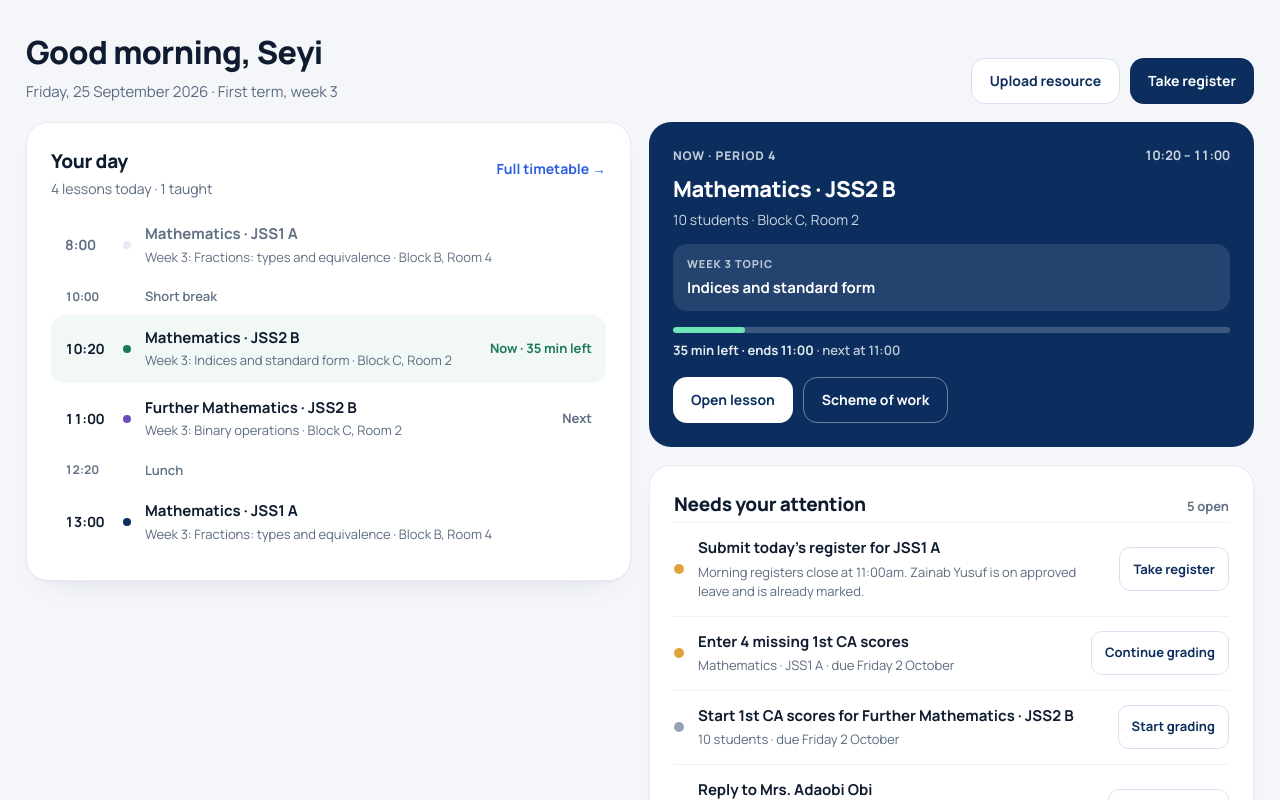
Test case: the lesson sheet › opens from the day list with the period, room, topic and actions
The width and height of the screenshot is (1280, 800).
Click the button with aria-label "Open lesson details" at (328,245), box [51, 211, 606, 279]
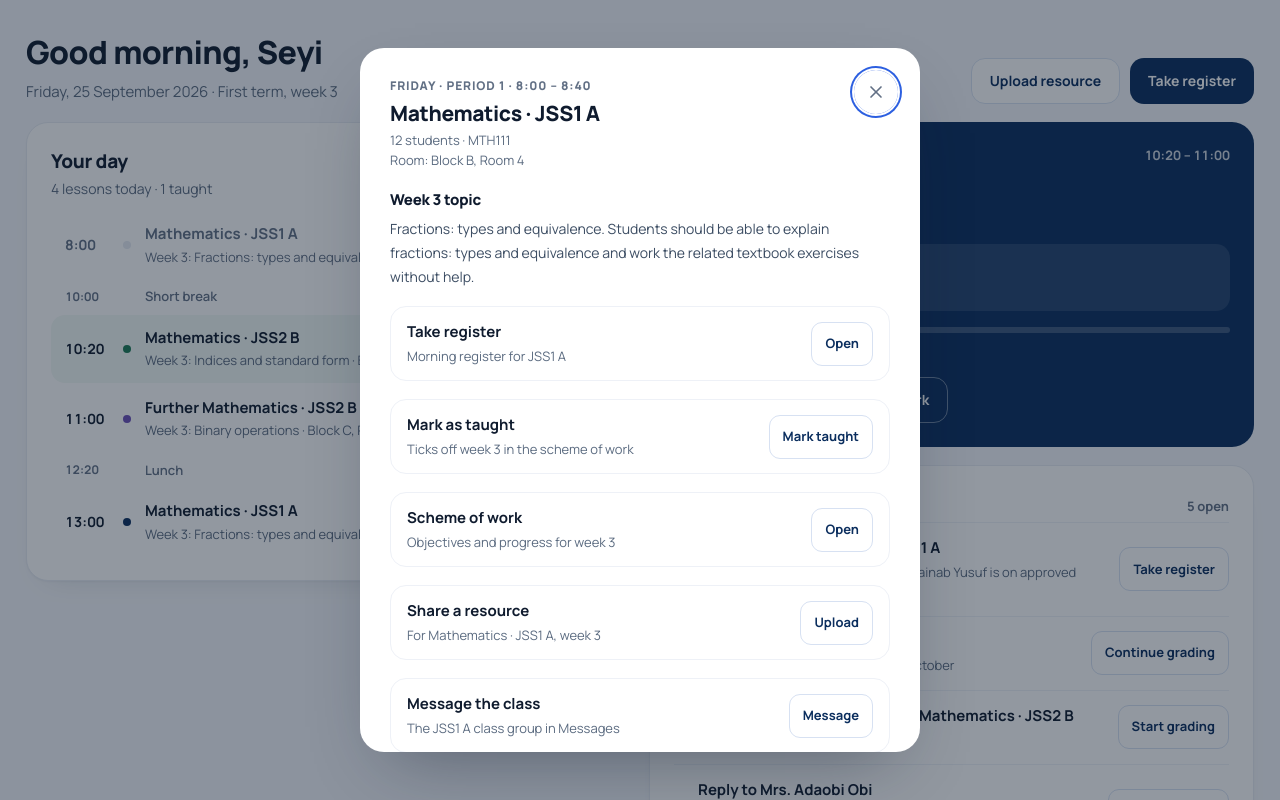
Expected: the text "Friday · Period 1 · 8:00 – 8:40" is shown, [390, 78, 600, 94]
Expected: the heading "Mathematics · JSS1 A" is shown, [390, 100, 600, 126]
Expected: the text "12 students · MTH111Room: Block B, Room 4" is shown, [390, 131, 524, 169]
